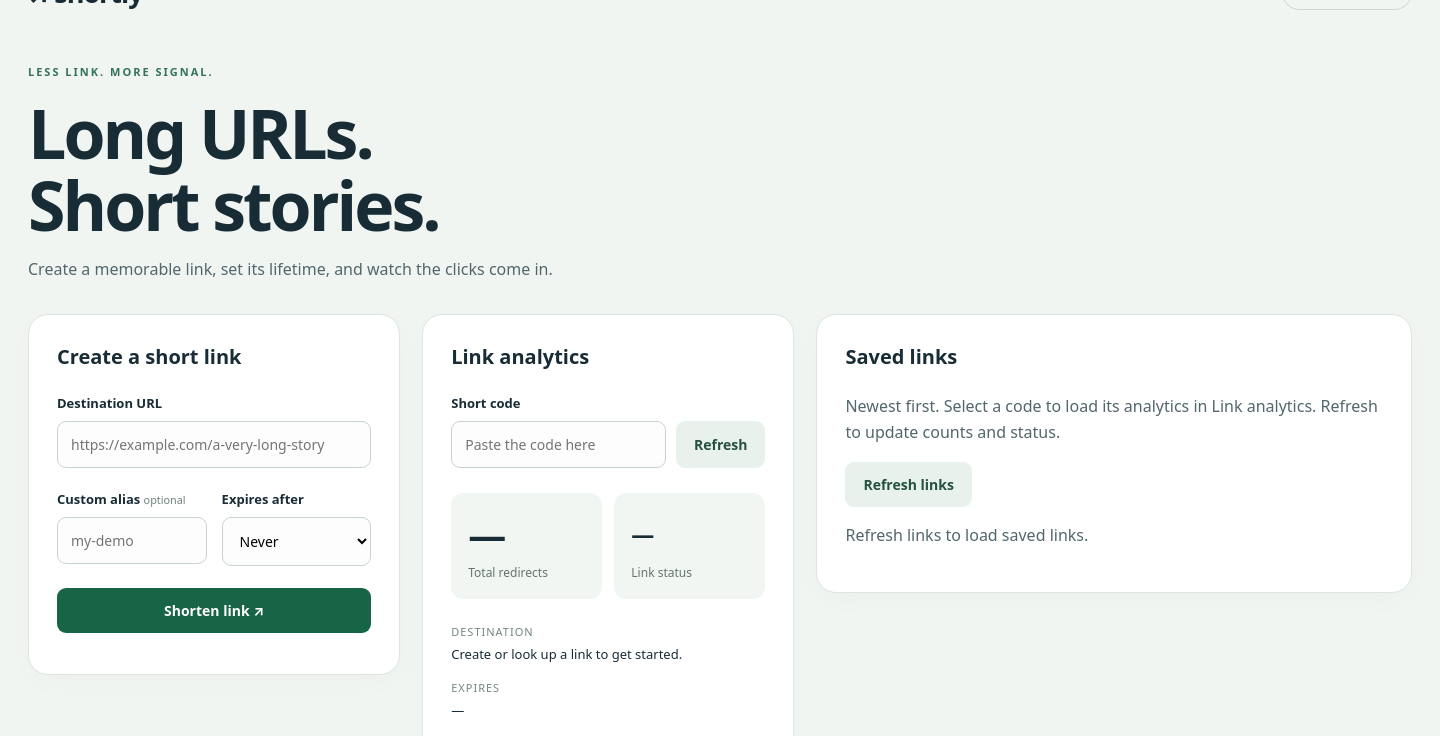
React shortener workflows › renews an expired link with the selected duration
Type "demo" into the field labelled "Short code" at (559, 445), box [451,421,666,468]
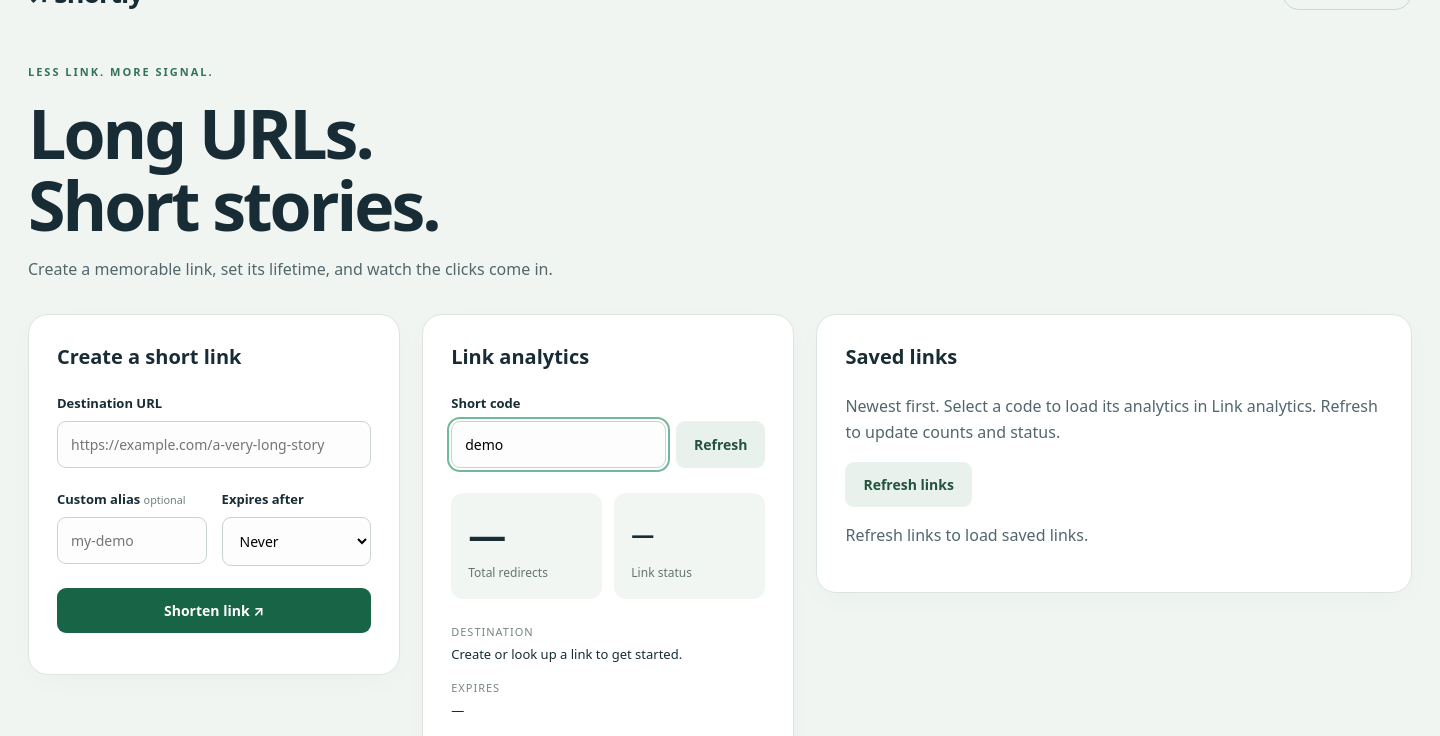
Click the button "Refresh" at (721, 445), box [676,421,766,468]
(page scrolled)
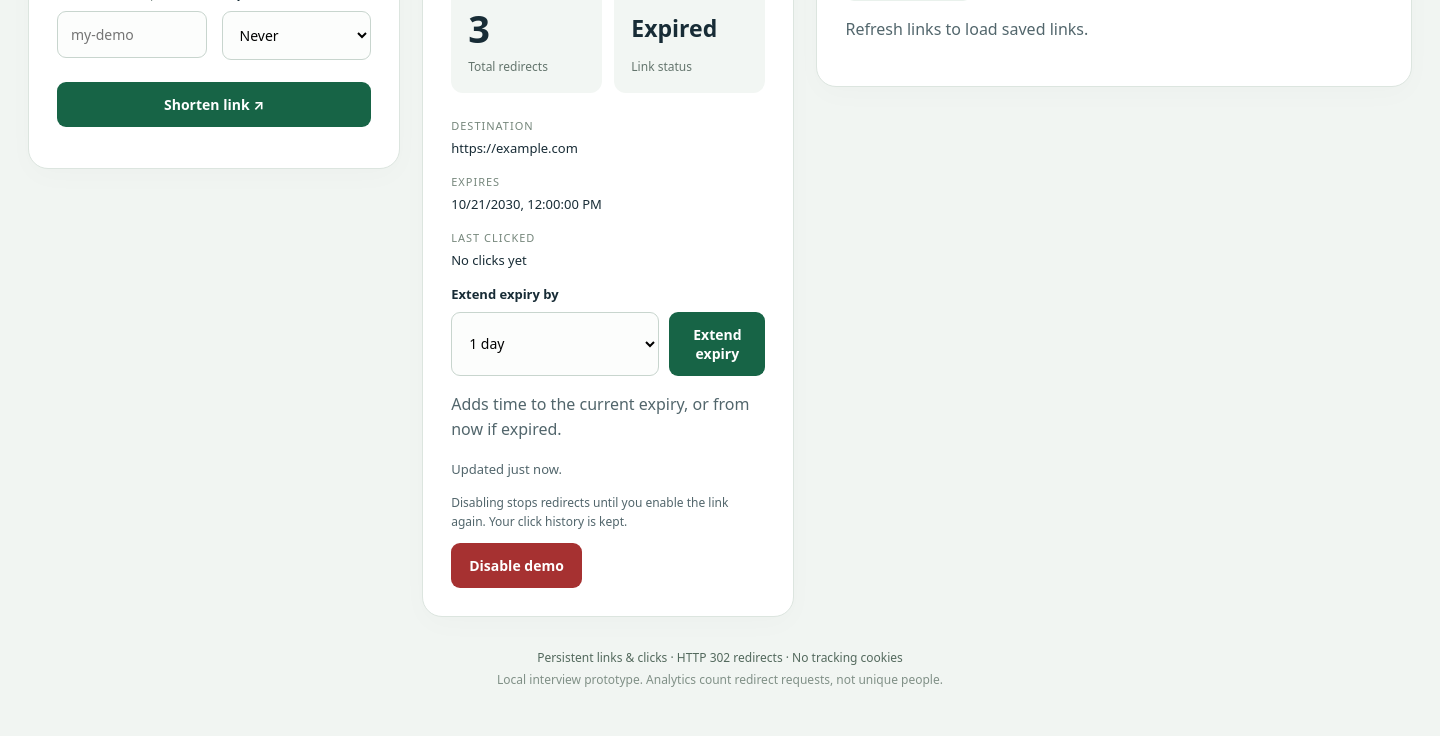
Expected: the text "https://example.com" is shown, [451,139,578,157]
Expected: the text "Expired" is shown, [631,12,717,44]
Select "1 hour" in the dropdown labelled "Extend expiry by" at (555, 344), box [451,312,659,376]
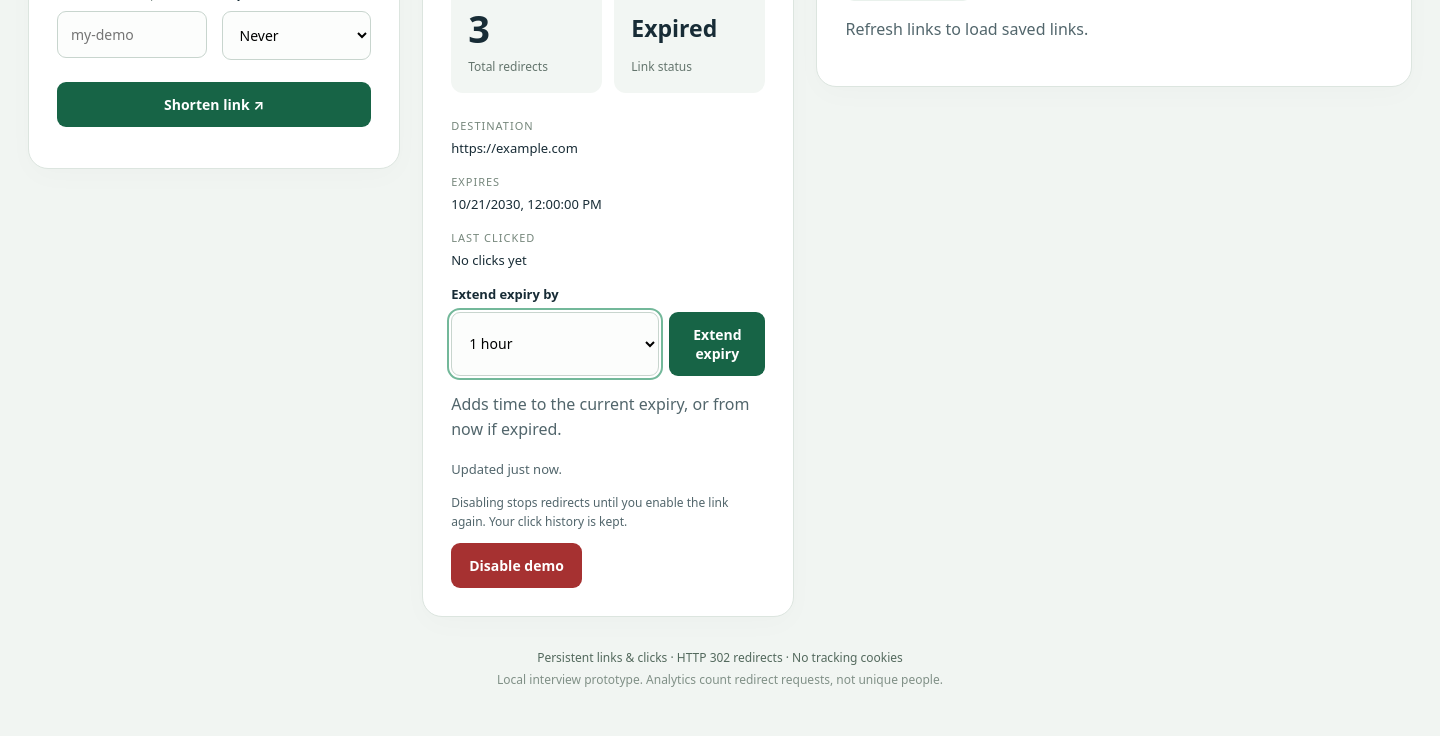
Click the button "Extend expiry" at (717, 344), box [669,312,765,376]
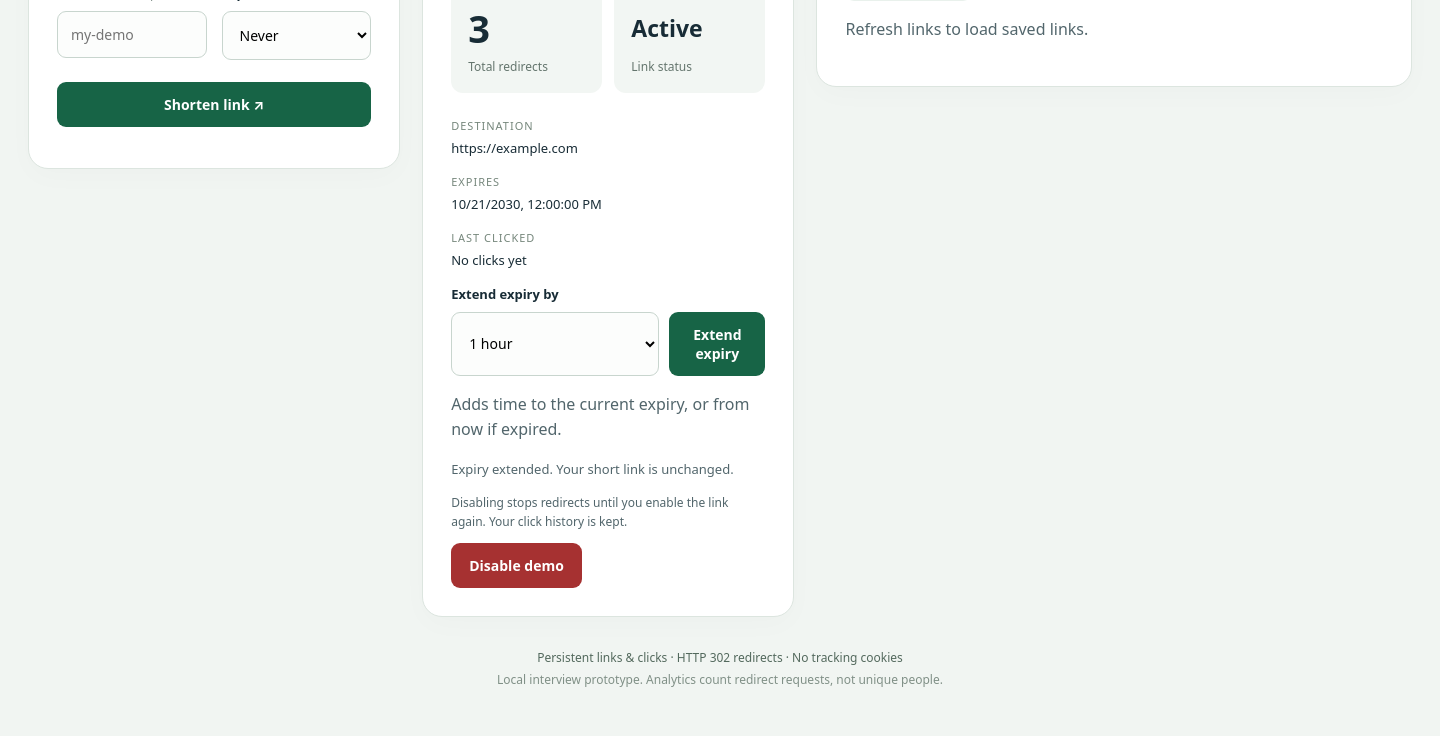
Expected: the text "Active" is shown, [631,12,703,44]
